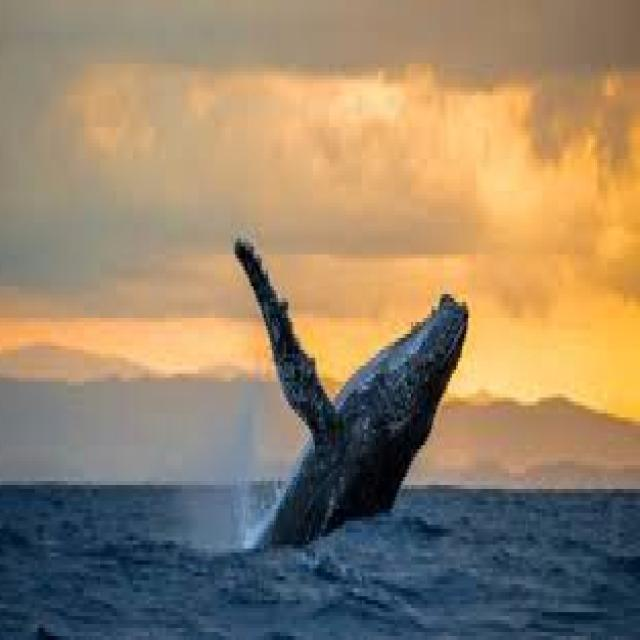whale: (237, 239, 468, 545)
